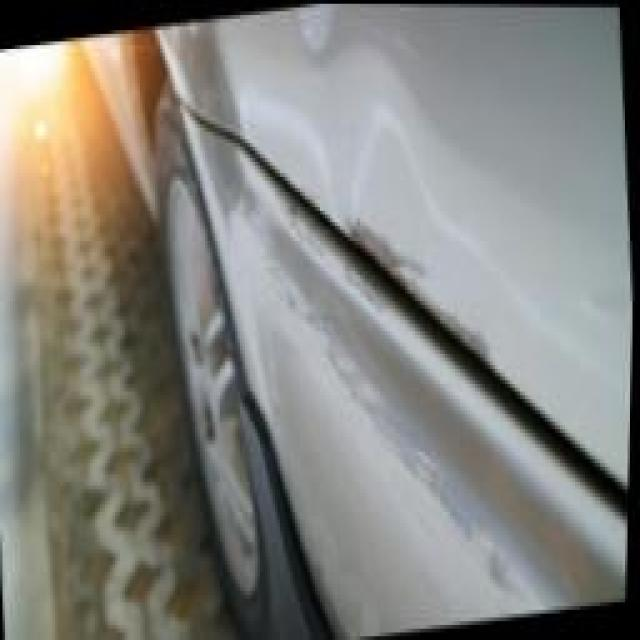Bumper: (255, 136, 565, 640)
